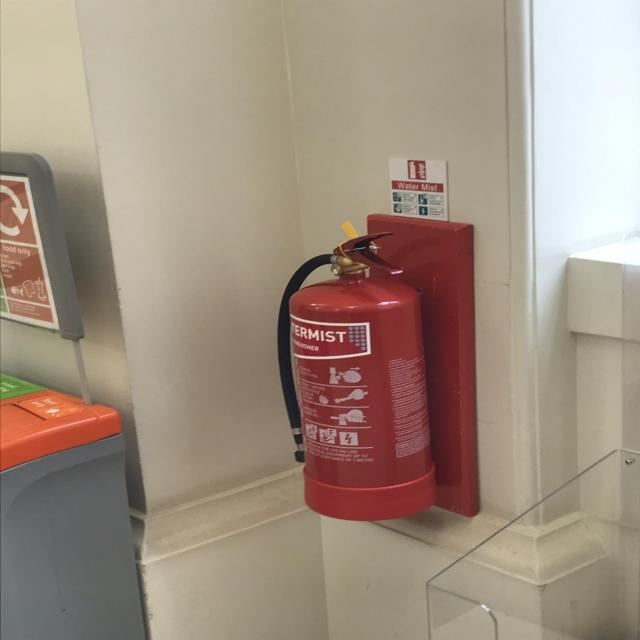fire_extinguisher: (271, 225, 442, 522)
